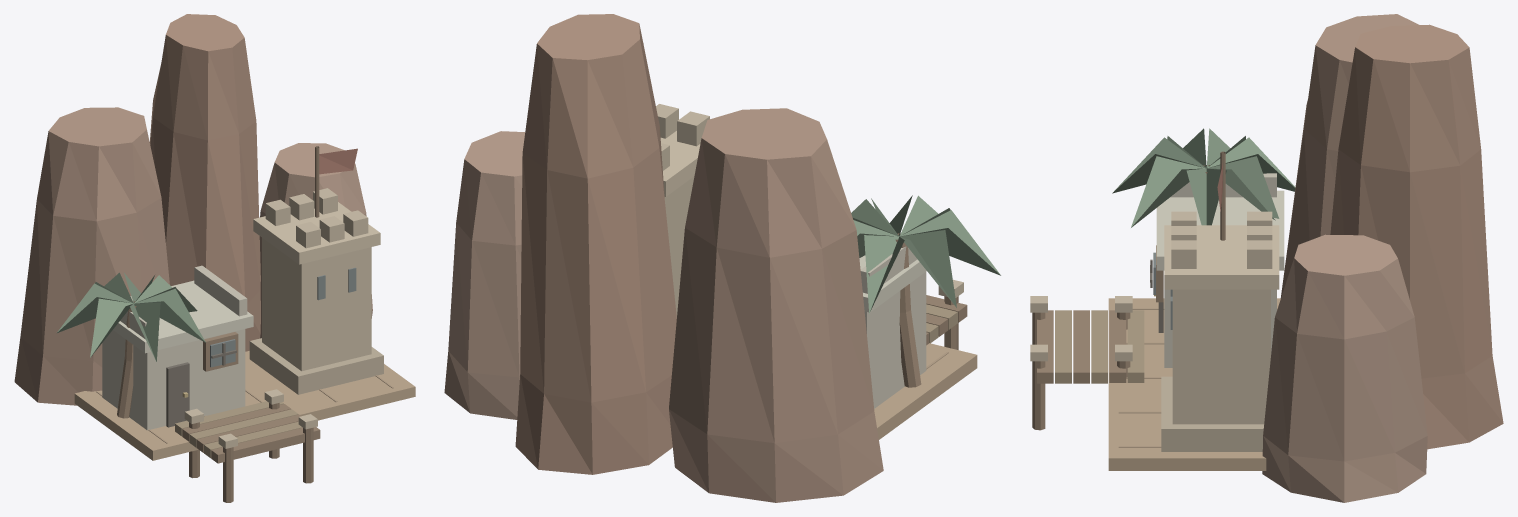
The picture shows the model from 3 angles, left to right: view 1: azimuth 30°, elevation 25°; view 2: azimuth 150°, elevation 25°; view 3: azimuth 270°, elevation 25°; orthographic projection. The views are drawn at different scales.
Visible parts, largest first — view 1: S25; view 2: S25; view 3: S25.
Part boxes in pixels (x1,y1,x2,y2): S25: (14,14,415,502); S25: (444,14,1000,502); S25: (1030,14,1503,502).
Size of the model in its own units: 3.96 by 3.59 by 3.75.
